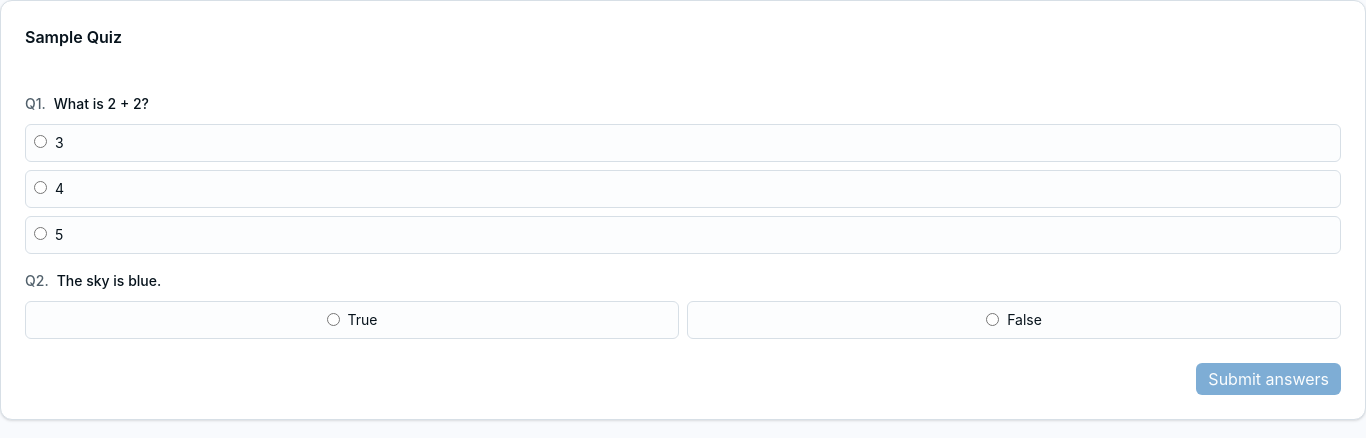
Test: QuizCard › requires every question to be answered before Submit enables
The width and height of the screenshot is (1366, 438).
expect the button "Submit answers" is disabled: met, box 1196,362 -> 1341,394
Click the radio button labelled "4": (40, 187) 34,181 -> 47,194
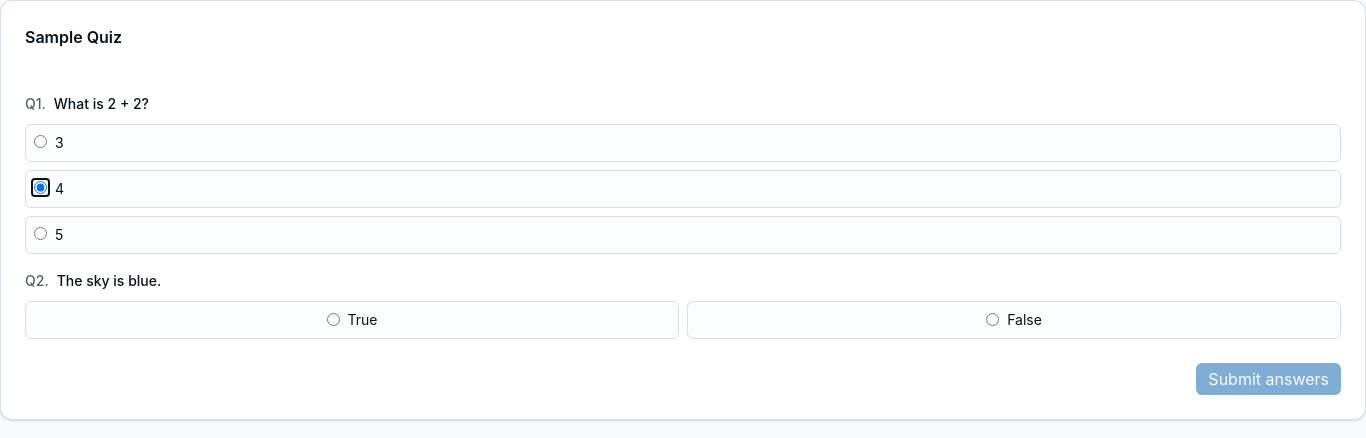
Click the radio button labelled "True": (333, 320) 326,313 -> 340,326
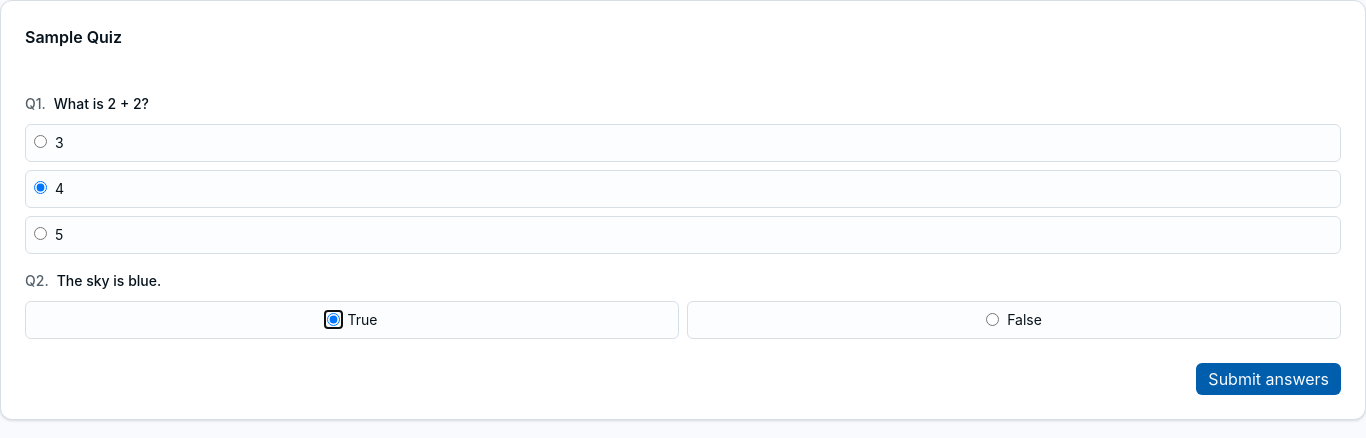
expect the button "Submit answers" is enabled: met, box 1196,362 -> 1341,394
